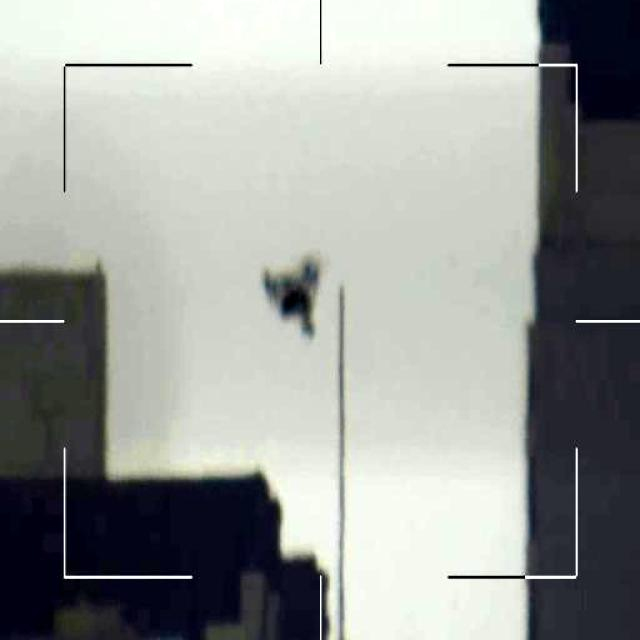bird: (254, 255, 326, 339)
